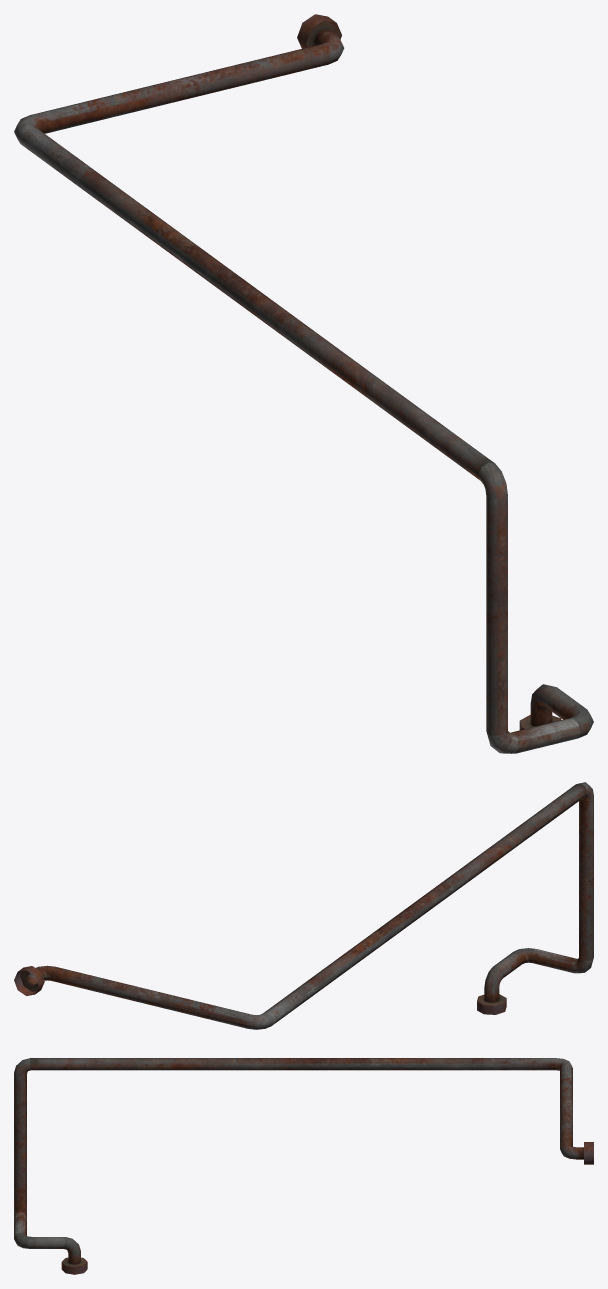
The model's file is PipeSet_01.FBX.
The picture shows the model from 3 angles, top to bottom: view 1: azimuth 30°, elevation 25°; view 2: azimuth 150°, elevation 25°; view 3: azimuth 270°, elevation 25°; orthographic projection. The views are drawn at different scales.
Visible parts, largest first — view 1: PipeSet_01; view 2: PipeSet_01; view 3: PipeSet_01.
Part boxes in pixels (x1=…): PipeSet_01: x1=14, y1=14, x2=593, y2=753; PipeSet_01: x1=14, y1=782, x2=593, y2=1029; PipeSet_01: x1=14, y1=1058, x2=593, y2=1274.
Bounding box in the file's own units: 178 × 163 × 448.
